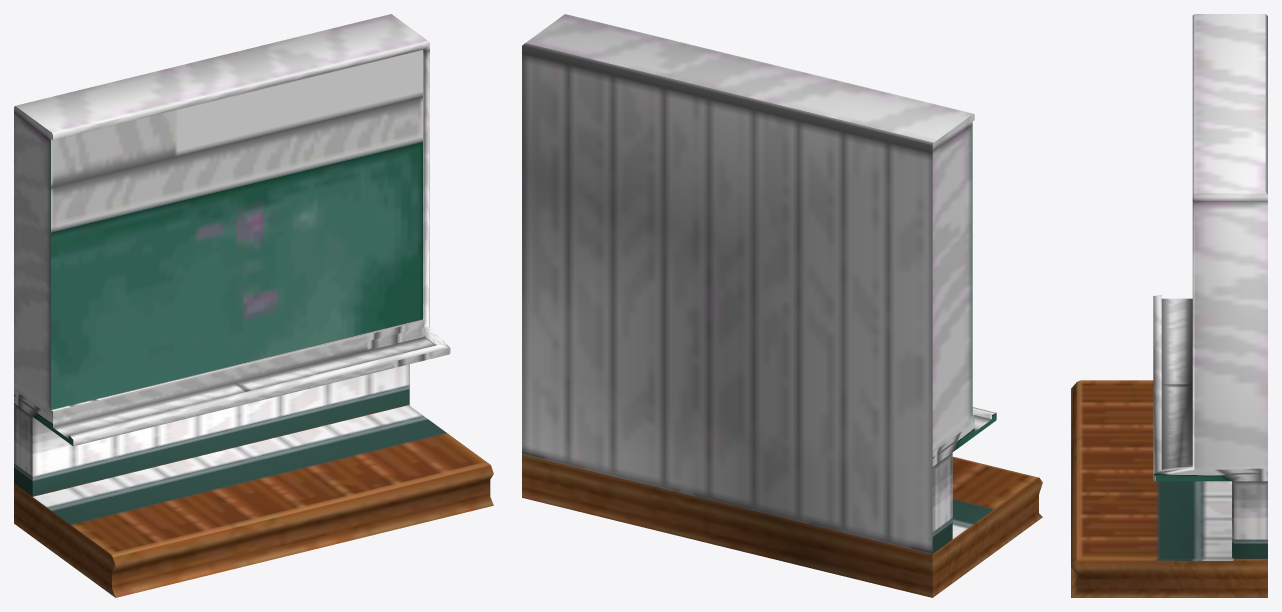
File: int_sch_platformR.dae
3 views of the same model, side by side, from view 1: azimuth 30°, elevation 25°; view 2: azimuth 150°, elevation 25°; view 3: azimuth 270°, elevation 25° (orthographic). The views are drawn at different scales.
Parts seen in each view (by area): view 1: int_sch_platformR; view 2: int_sch_platformR; view 3: int_sch_platformR.
Part boxes in pixels (box(x1,y1,x2,y2)): int_sch_platformR: box(14, 14, 493, 597); int_sch_platformR: box(522, 14, 1042, 597); int_sch_platformR: box(1071, 14, 1267, 597).
Size of the model in its own units: 59.1 by 62.5 by 27.5.
Materials: 2 (2 with a texture image).
